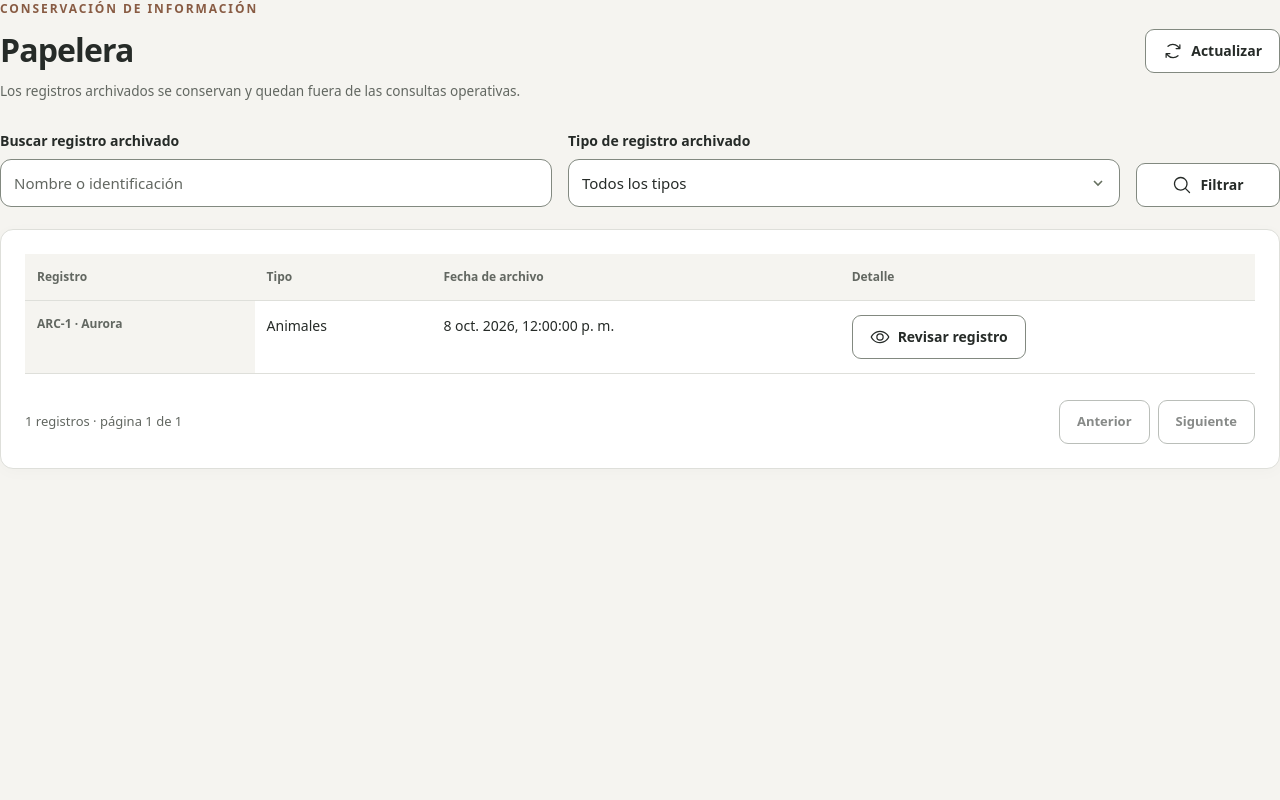
Test case: keeps the archived detail visible when restoration violates a business rule
Click the button with aria-label "Revisar ARC-1 · Aurora": (939,337) [852, 315, 1026, 359]
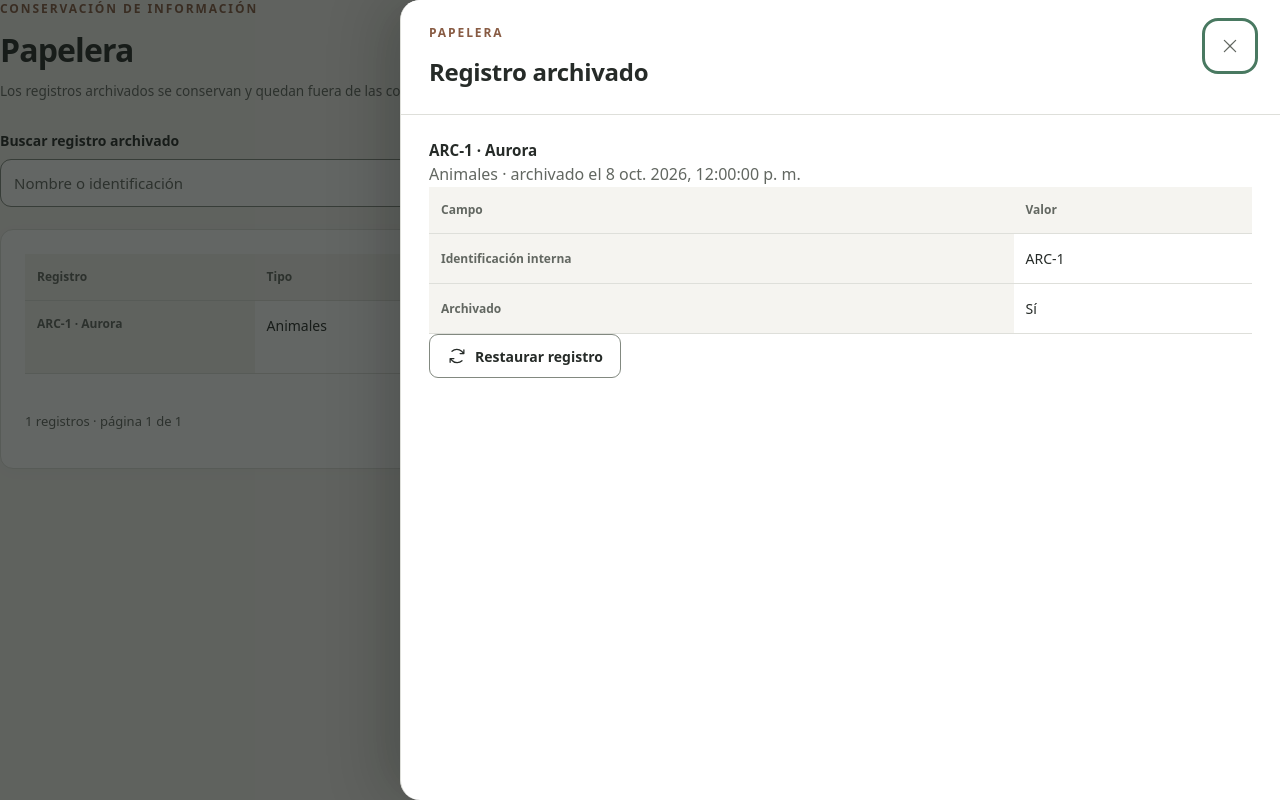
Check: the table named "Datos conservados" is shown, box [429, 187, 1252, 334]
Click the button "Restaurar registro": (525,356) [429, 334, 621, 378]
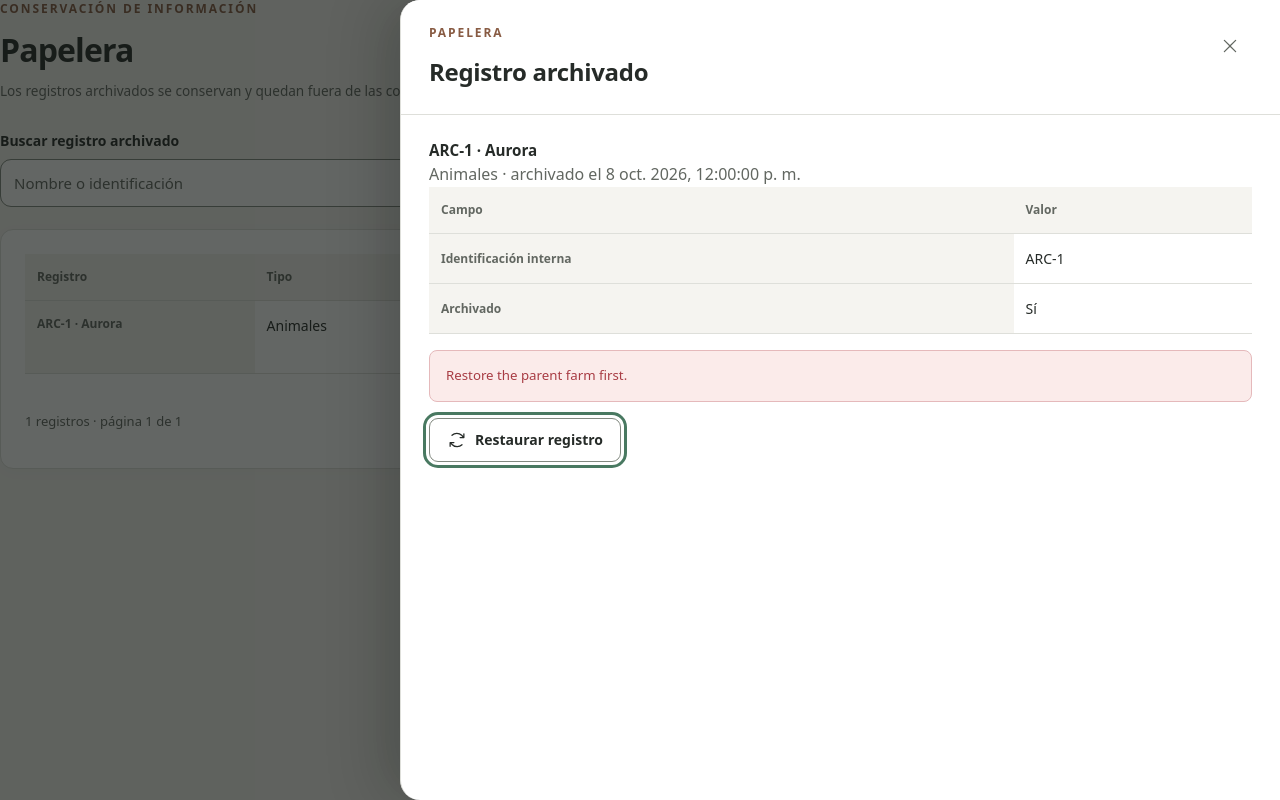
Check: the table named "Datos conservados" is shown, box [429, 187, 1252, 334]
Check: the message shows "parent farm", box [446, 366, 627, 384]
